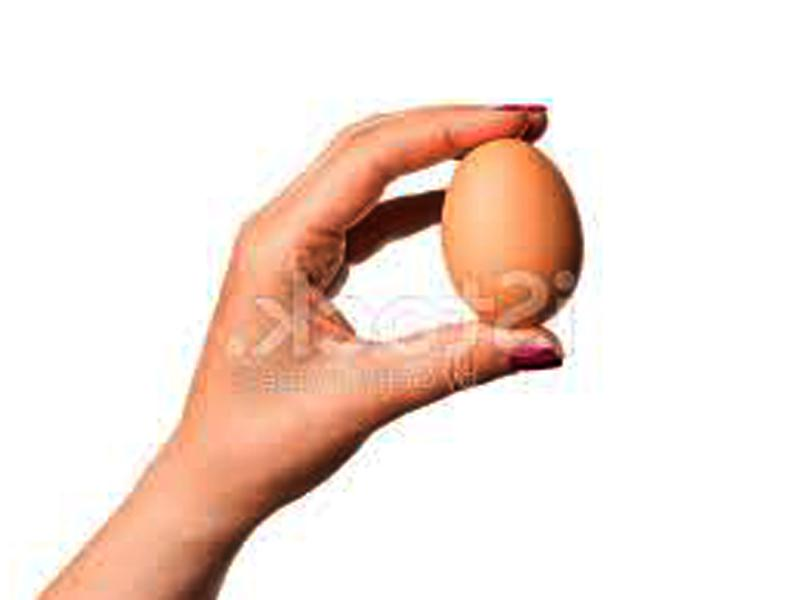Eggs: (444, 138, 577, 329)
